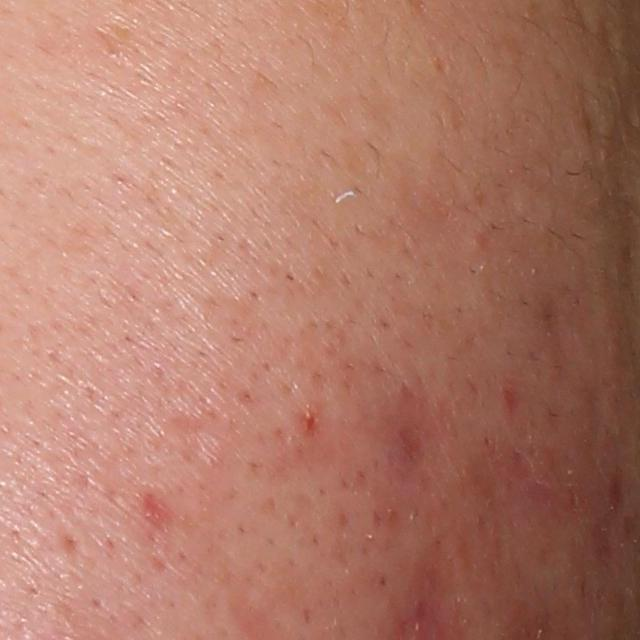atrophic_scar: (473, 438, 617, 563), (160, 410, 237, 492), (569, 92, 605, 164)
